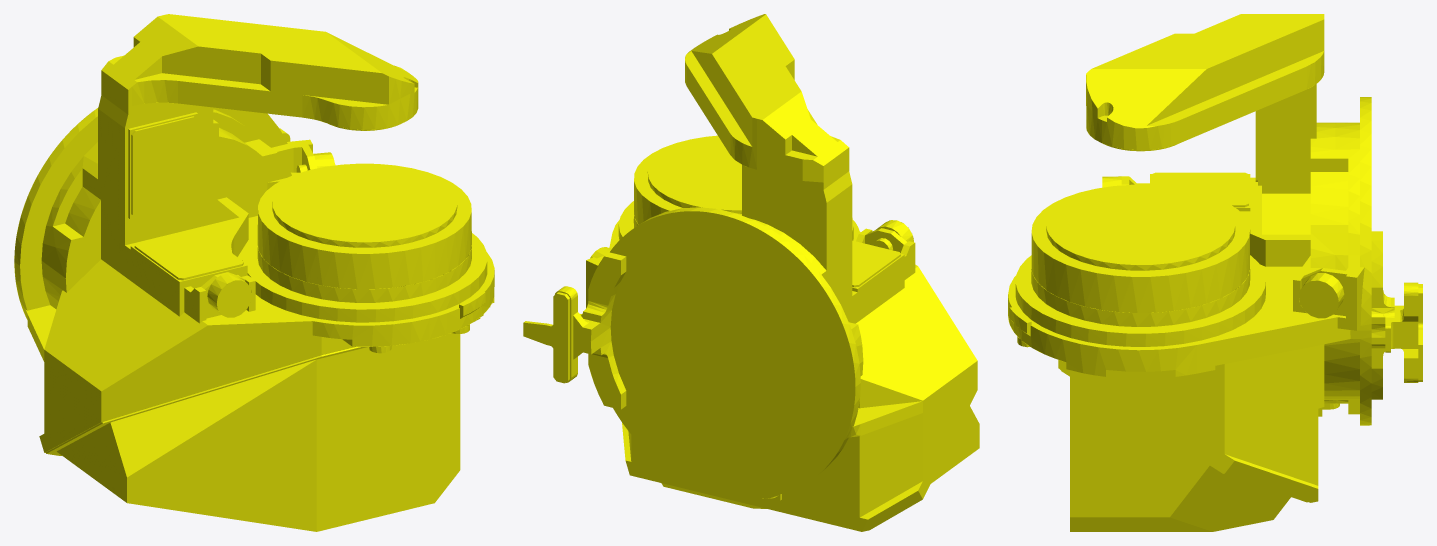
3 renders of one model, left to right at view 1: azimuth 30°, elevation 25°; view 2: azimuth 150°, elevation 25°; view 3: azimuth 270°, elevation 25°, orthographic. The views are drawn at different scales.
Visible parts, largest first — view 1: node; view 2: node; view 3: node.
Boxes of the visible parts, box(x1,y1,x2,y2) form: node: box(14, 14, 494, 531); node: box(523, 14, 979, 531); node: box(1008, 14, 1422, 531).
Bounding box in the file's own units: 566 × 632 × 538.
